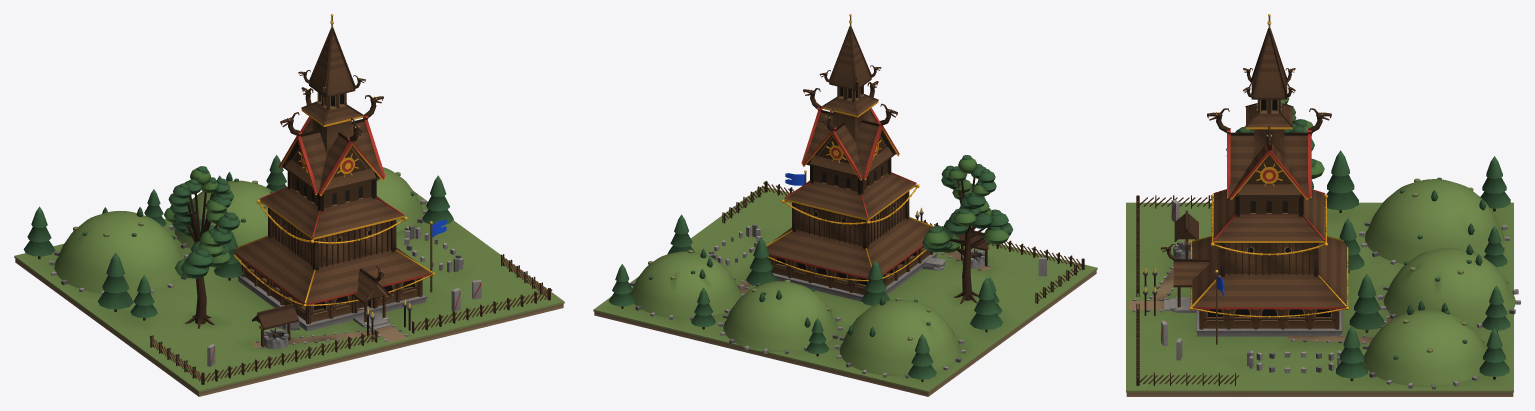
File: lm_uppsala.glb
3 renders of one model, left to right at view 1: azimuth 30°, elevation 25°; view 2: azimuth 150°, elevation 25°; view 3: azimuth 270°, elevation 25°, orthographic. The views are drawn at different scales.
Parts seen in each view (by area): view 1: lm_uppsala; view 2: lm_uppsala; view 3: lm_uppsala.
Boxes of the visible parts, left/top/right/bottom form: lm_uppsala: left=14, top=14, right=564, bottom=396; lm_uppsala: left=593, top=14, right=1097, bottom=396; lm_uppsala: left=1126, top=14, right=1520, bottom=396.
Size of the model in its own units: 2.37 by 1.76 by 2.1.
1 material, 1 textured.
